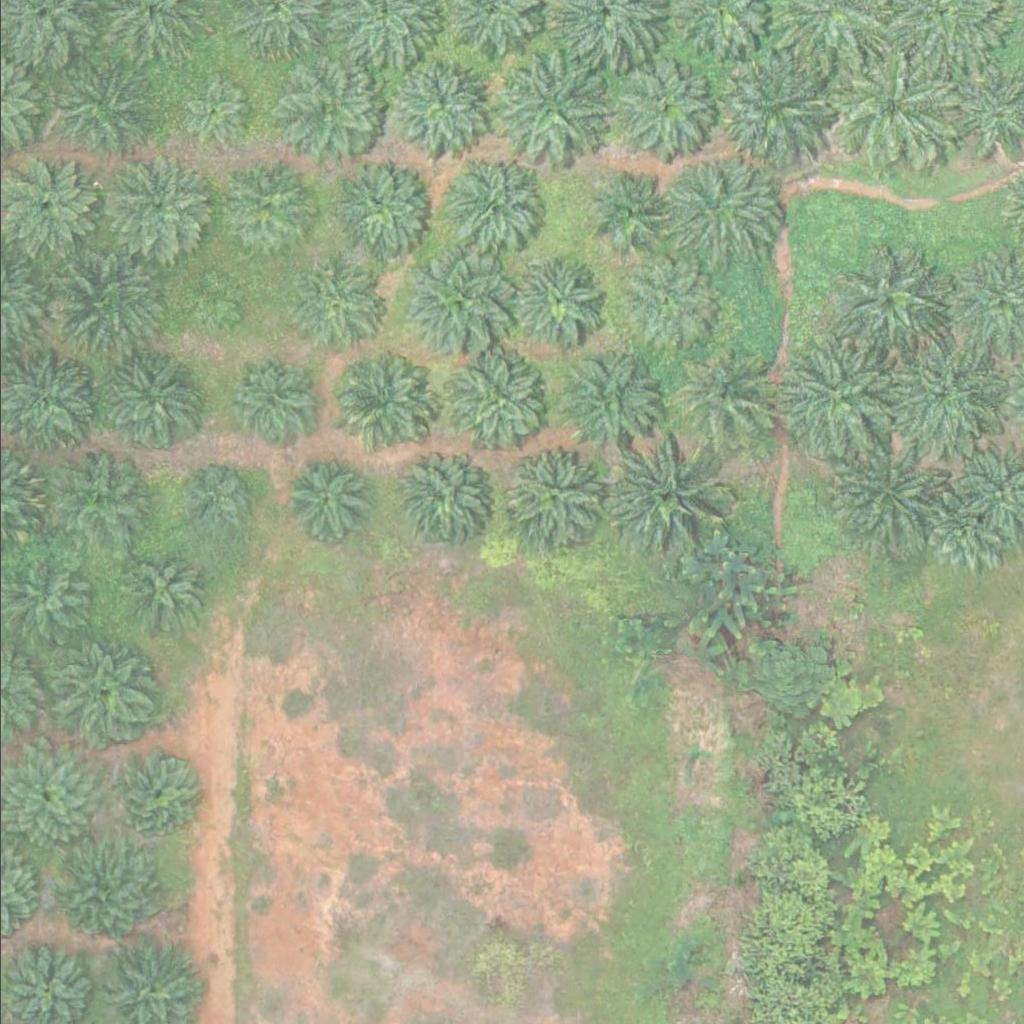Kelapa_Sawit: (835, 48, 949, 161), (661, 152, 775, 265), (440, 344, 554, 457), (401, 242, 515, 355), (882, 337, 995, 450), (820, 439, 933, 552), (91, 343, 204, 456), (722, 53, 836, 165), (607, 50, 721, 162), (605, 442, 718, 554), (490, 52, 603, 164), (831, 246, 944, 358), (778, 342, 891, 454), (547, 347, 660, 459), (54, 245, 167, 357), (669, 352, 770, 452), (503, 446, 604, 546), (47, 448, 148, 548), (284, 259, 385, 359), (335, 157, 436, 257), (216, 161, 317, 261), (108, 153, 209, 253), (390, 57, 491, 157), (278, 58, 379, 158), (52, 60, 153, 160), (48, 845, 149, 945), (440, 150, 540, 250), (617, 252, 717, 352), (505, 249, 605, 349), (390, 448, 490, 548), (330, 349, 430, 449), (49, 641, 149, 741), (278, 453, 366, 541), (116, 548, 204, 636), (916, 483, 1004, 570), (226, 355, 314, 442), (113, 749, 201, 836), (595, 173, 671, 248), (172, 71, 247, 146), (183, 466, 246, 529), (180, 268, 243, 330)
